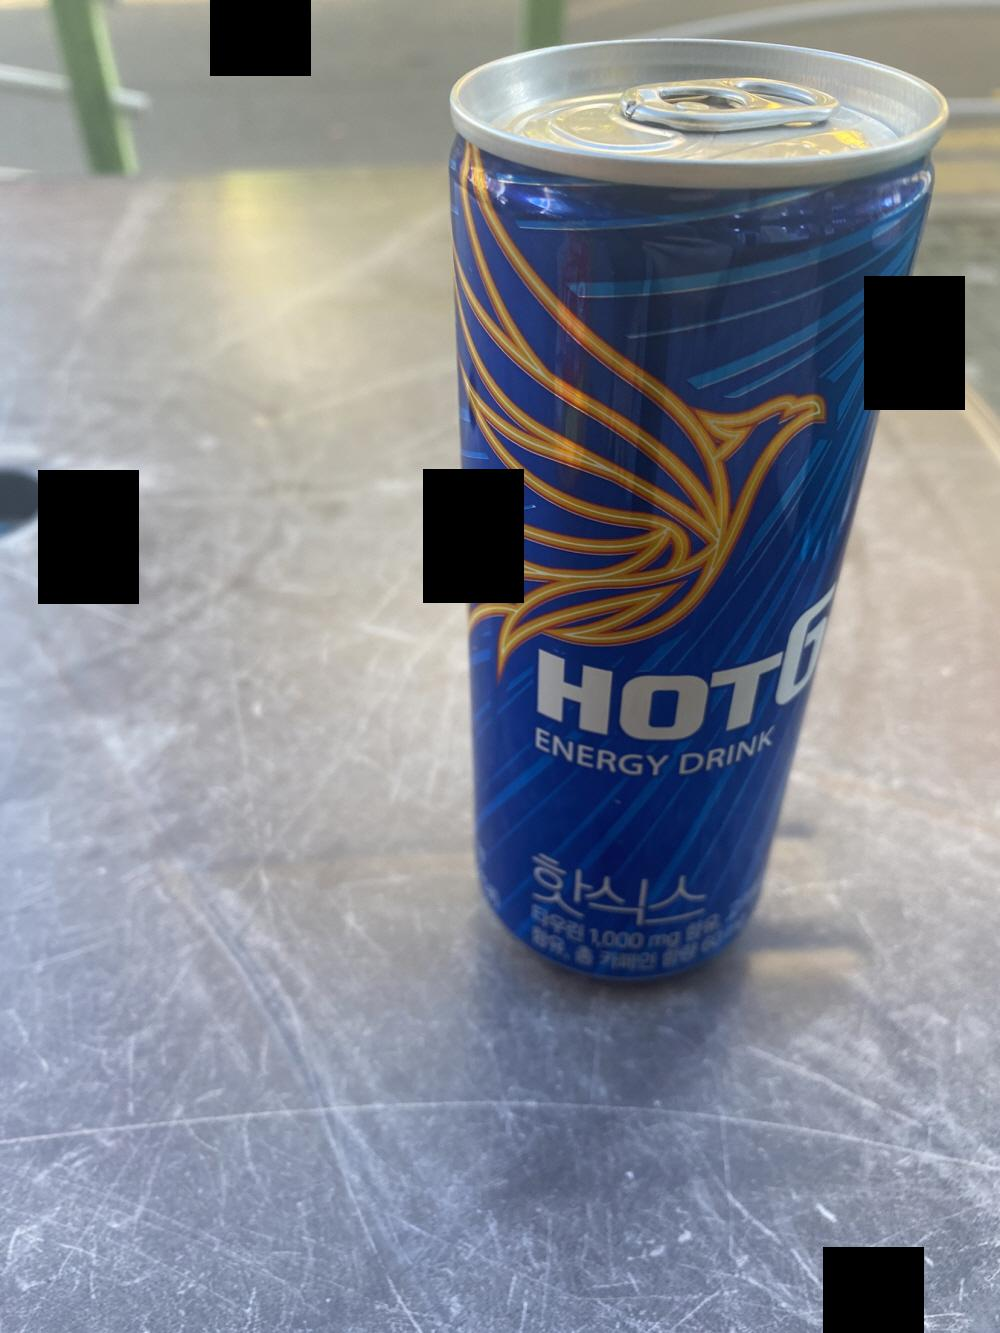hotsix_org: (446, 34, 949, 982)
